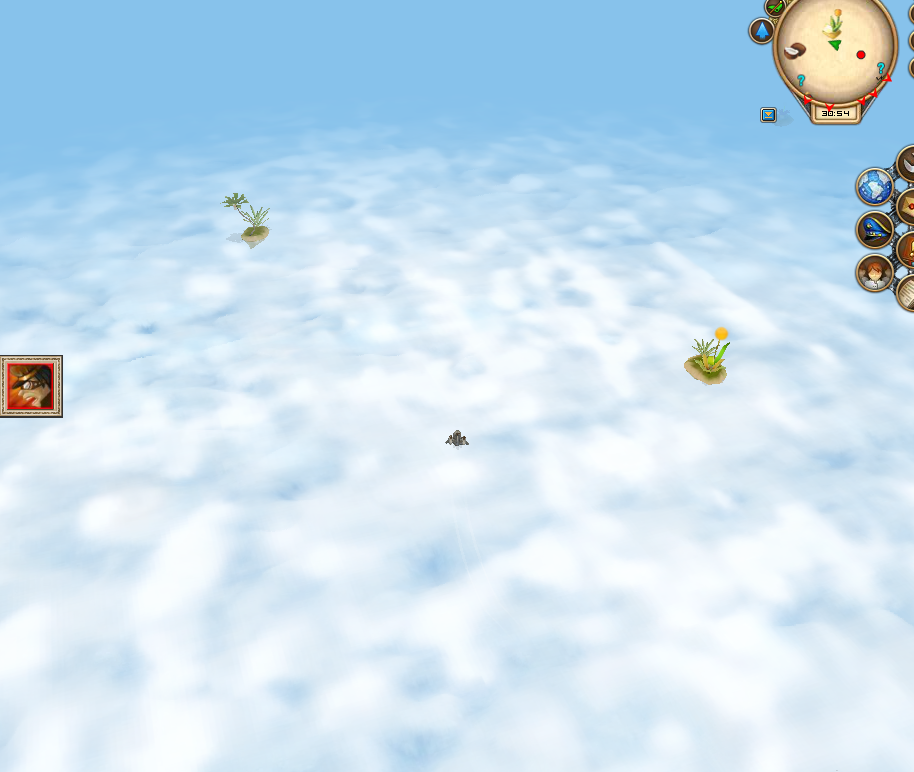palm: (218, 187, 275, 249)
